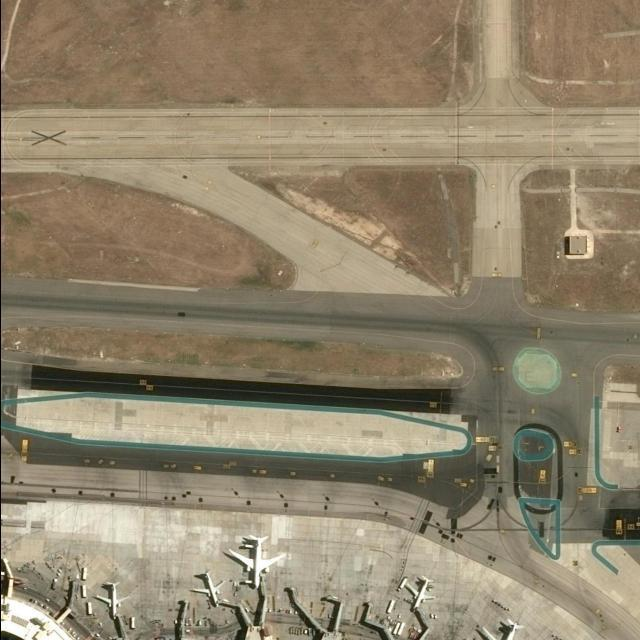Aircraft: (227, 538, 283, 592), (402, 577, 434, 613), (484, 616, 529, 640)
